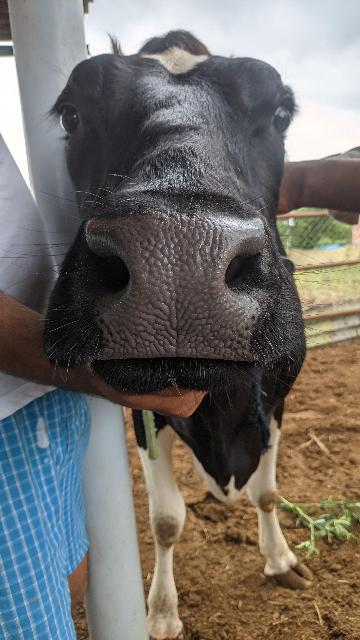Muzzle: (103, 221, 244, 355)
